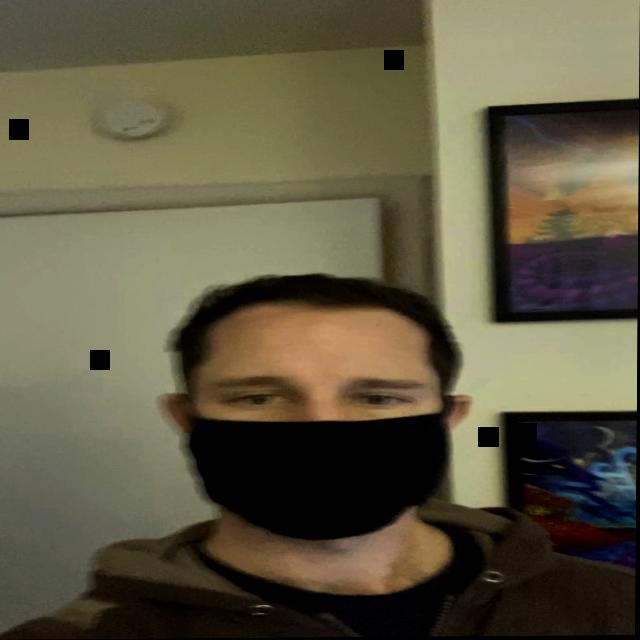Mask: (149, 280, 487, 551)
